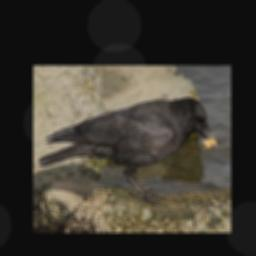Crow: (39, 96, 217, 206)
